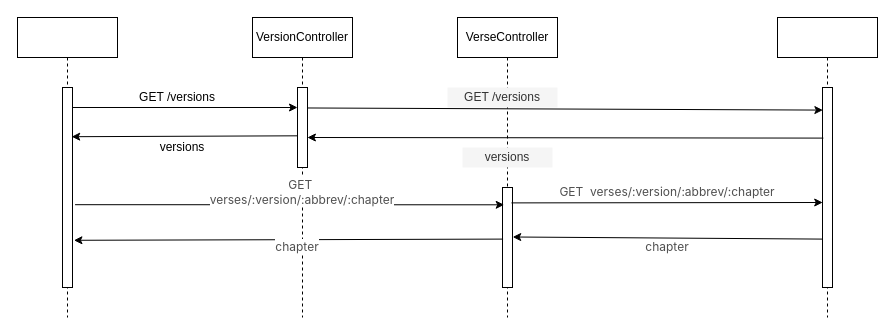
The diagram is 895 pixels wide and 335 high, and some of its shapes have lost their labels. The shapes that lost their labels are listed below. From the top down, each one's box as (x1, y1, x2, y2) in pixels, then its label:
(16, 16, 118, 318): User
(776, 16, 878, 318): PublicAPI
